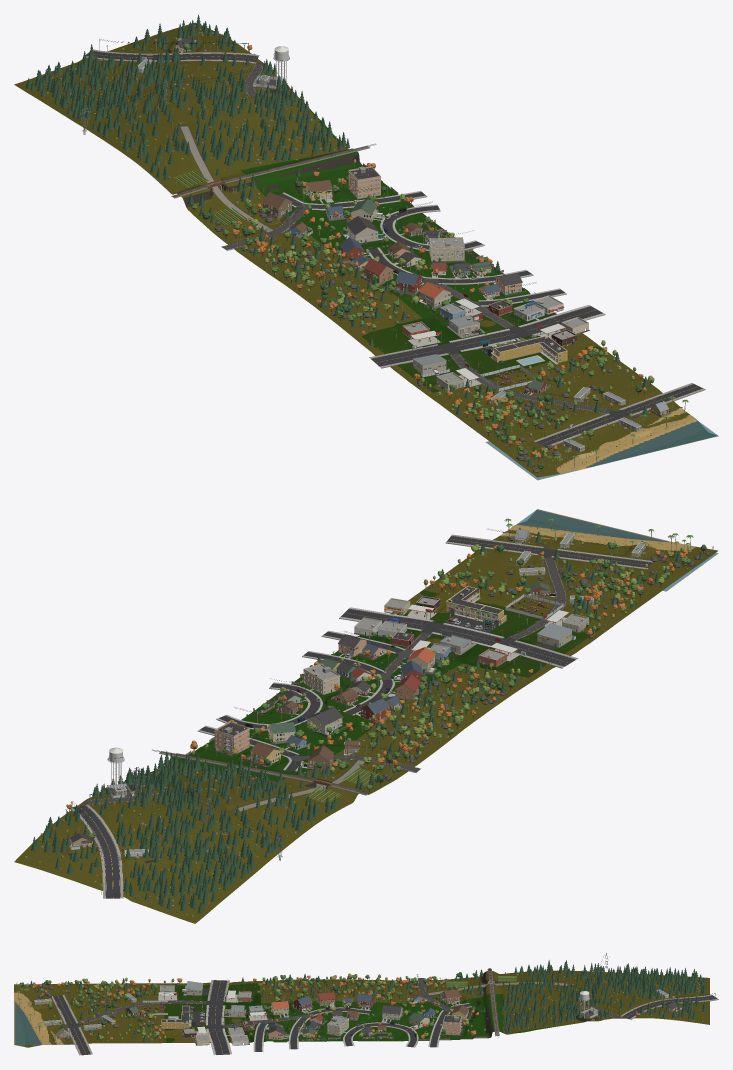
The model's file is PortSolace_Exterior_part1of5.fbx.
3 views of the same model, one above another, from view 1: azimuth 30°, elevation 25°; view 2: azimuth 150°, elevation 25°; view 3: azimuth 270°, elevation 25° (orthographic). The views are drawn at different scales.
Visible parts, largest first — view 1: Props_C0_3.leaf_pine, Props_C0_4.leaf_pine.p0, Props_C0_4.leaf_pine.p1, Terrain_7_0, Terrain_0_1, Terrain_3_0, Terrain_0_0, Terrain_6_0, Terrain_1_1, Terrain_7_1, Terrain_6_1, Terrain_8_0 (+30 smaller); view 2: Props_C0_4.leaf_pine.p0, Props_C0_4.leaf_pine.p1, Props_C0_3.leaf_pine, Terrain_9_0, Terrain_9_1, Terrain_8_0, Terrain_0_1, Terrain_1_1, Roads_C0_1.asphalt, Terrain_0_0, Terrain_5_0, Terrain_7_0 (+30 smaller); view 3: Props_C0_3.leaf_pine, Props_C0_4.leaf_pine.p1, Props_C0_4.leaf_pine.p0, Terrain_0_1, Terrain_0_0, Terrain_1_1, Roads_C0_1.asphalt, Terrain_7_1, Terrain_6_1, Terrain_6_0, Terrain_1_0, Terrain_3_0 (+47 smaller).
Boxes of the visible parts, x1,y1,x2,y2 form: Props_C0_3.leaf_pine: (122, 86, 349, 222); Props_C0_4.leaf_pine.p0: (25, 51, 172, 137); Props_C0_4.leaf_pine.p1: (88, 15, 288, 117); Terrain_7_0: (119, 116, 261, 193); Terrain_0_1: (576, 401, 717, 457); Terrain_3_0: (328, 294, 469, 355); Terrain_0_0: (485, 416, 627, 477); Terrain_6_0: (171, 167, 312, 240); Terrain_1_1: (524, 357, 662, 416); Terrain_7_1: (210, 98, 348, 167); Terrain_6_1: (262, 148, 397, 218); Terrain_8_0: (66, 79, 208, 150); Props_C0_4.leaf_pine.p0: (129, 805, 283, 913); Props_C0_4.leaf_pine.p1: (31, 769, 220, 892); Props_C0_3.leaf_pine: (125, 751, 379, 830); Terrain_9_0: (123, 842, 247, 923); Terrain_9_1: (14, 814, 150, 890); Terrain_8_0: (159, 803, 299, 879); Terrain_0_1: (493, 509, 627, 565); Terrain_1_1: (435, 548, 575, 603); Roads_C0_1.asphalt: (323, 608, 575, 666); Terrain_0_0: (576, 531, 717, 587); Terrain_5_0: (324, 714, 456, 773); Terrain_7_0: (211, 779, 351, 836); Props_C0_3.leaf_pine: (439, 960, 571, 1033); Props_C0_4.leaf_pine.p1: (570, 976, 706, 1019); Props_C0_4.leaf_pine.p0: (571, 963, 706, 993); Terrain_0_1: (14, 1013, 83, 1047); Terrain_0_0: (14, 983, 83, 1016); Terrain_1_1: (83, 1013, 153, 1043); Roads_C0_1.asphalt: (192, 980, 272, 1054); Terrain_7_1: (501, 992, 570, 1034); Terrain_6_1: (431, 1000, 501, 1040); Terrain_6_0: (431, 971, 501, 1008); Terrain_1_0: (83, 983, 153, 1013); Terrain_3_0: (223, 980, 292, 1011).
Bounding box in the file's own units: 64830 × 21903 × 259368.
